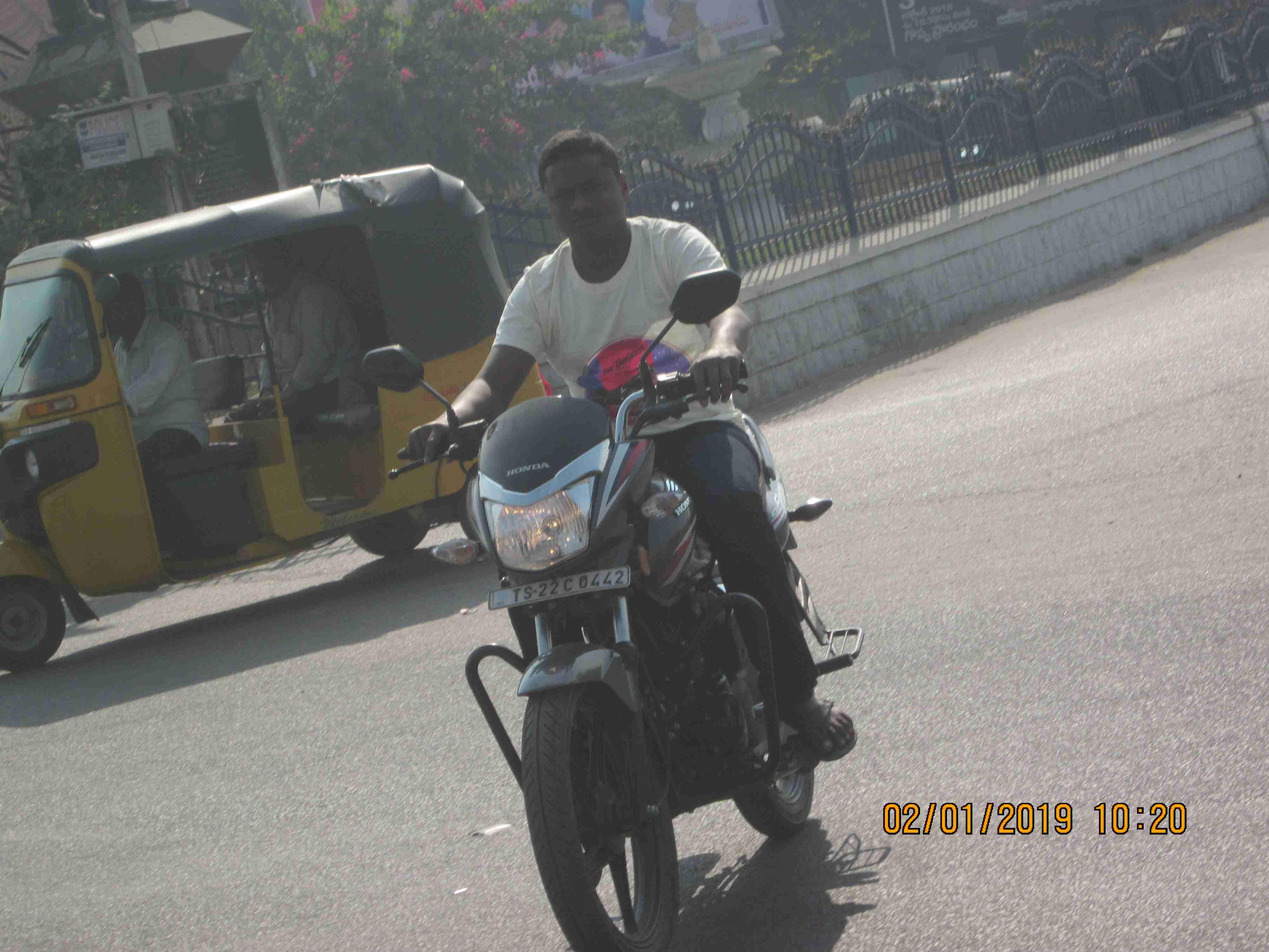plate: (477, 564, 640, 617)
